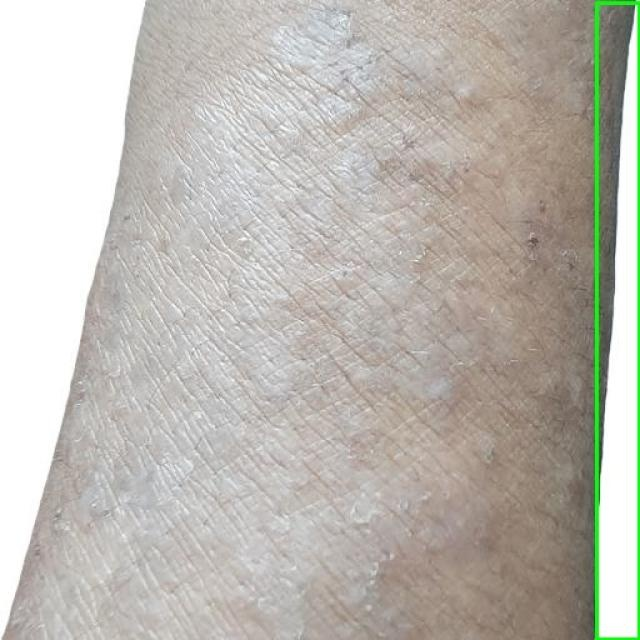Tinea Corporis: (596, 2, 639, 639)
